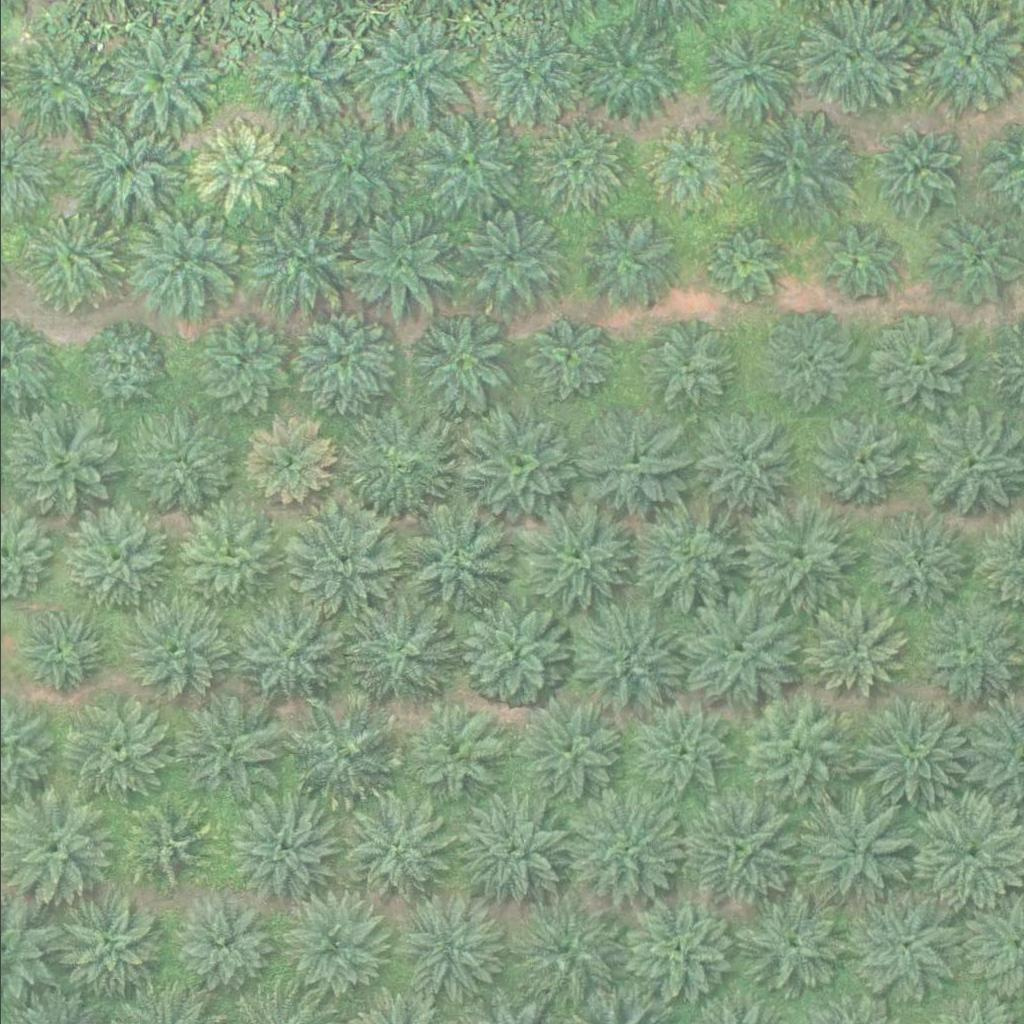Kelapa_Sawit: (571, 12, 685, 125), (466, 17, 580, 130), (412, 109, 526, 222), (286, 115, 400, 228), (341, 207, 455, 320), (740, 690, 854, 803), (682, 795, 796, 908), (564, 795, 678, 908), (508, 894, 622, 1007), (393, 895, 507, 1008), (118, 204, 232, 317), (802, 794, 915, 907), (853, 696, 966, 809), (801, 403, 914, 516), (688, 404, 801, 517), (575, 410, 688, 523), (461, 410, 574, 523), (520, 500, 633, 613), (394, 502, 507, 615), (284, 505, 397, 618), (452, 791, 565, 904), (334, 798, 447, 911), (275, 891, 388, 1004), (54, 888, 167, 1001), (231, 597, 344, 710), (244, 205, 357, 318), (353, 20, 467, 132), (618, 896, 732, 1008), (103, 28, 217, 140), (69, 113, 183, 225), (846, 896, 959, 1008), (910, 6, 1023, 118), (735, 113, 848, 225), (339, 411, 452, 523), (742, 496, 855, 608), (626, 499, 739, 611), (682, 598, 795, 710), (570, 604, 683, 716), (458, 598, 571, 710), (345, 593, 458, 705), (515, 697, 628, 809), (285, 694, 398, 806), (737, 890, 850, 1002), (59, 691, 172, 803), (231, 791, 344, 903), (172, 695, 285, 807), (805, 602, 906, 702), (867, 515, 968, 615), (697, 25, 798, 125), (581, 215, 682, 315), (456, 210, 557, 310), (631, 316, 732, 416), (408, 309, 509, 409), (404, 706, 505, 806), (129, 599, 230, 699), (178, 510, 279, 610), (3, 34, 104, 134), (192, 317, 293, 417), (132, 419, 233, 519), (862, 313, 962, 413), (758, 313, 858, 413), (293, 309, 393, 409), (627, 701, 727, 801), (67, 509, 167, 609), (253, 23, 353, 123), (17, 211, 117, 311), (121, 802, 210, 890), (641, 122, 729, 210), (701, 223, 789, 311), (525, 313, 613, 401), (244, 417, 332, 505), (872, 124, 960, 211), (536, 122, 624, 209), (18, 604, 106, 691), (179, 903, 267, 990), (199, 124, 287, 211), (77, 325, 165, 412), (818, 223, 894, 298)
